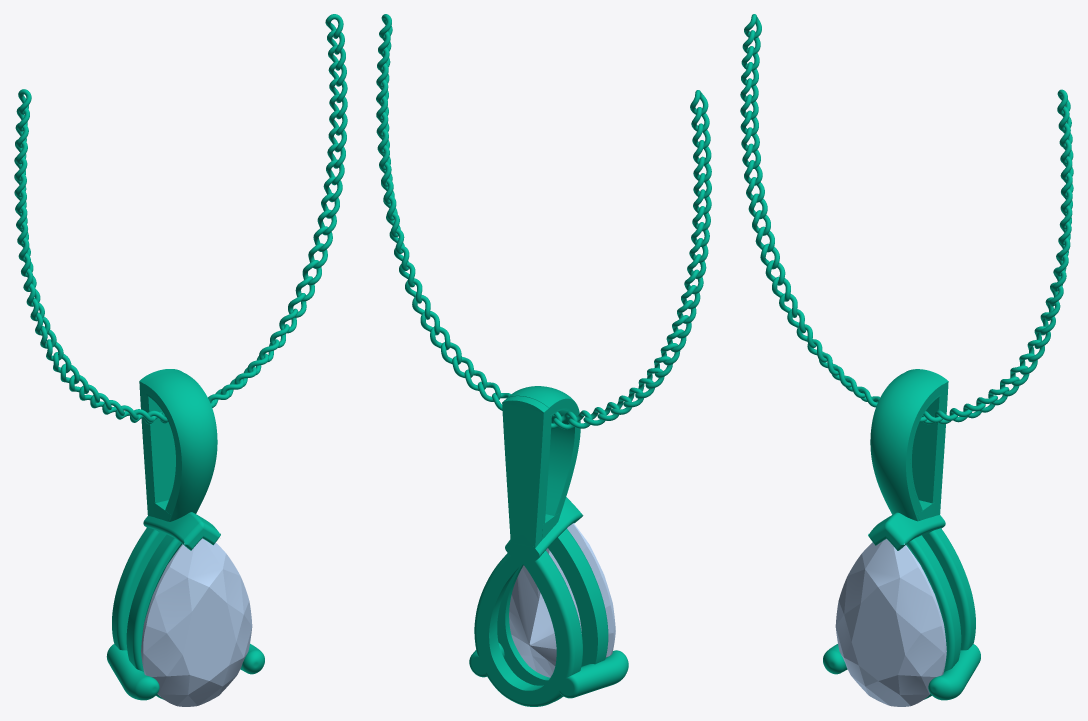
The picture shows the model from 3 angles, left to right: view 1: azimuth 30°, elevation 25°; view 2: azimuth 150°, elevation 25°; view 3: azimuth 330°, elevation 25°; orthographic projection.
Visible parts, largest first — view 1: Diamond_Pear, VBP118 4-2-25(RENDER).3dm, Bezel (×2), Head Prong (×2); view 2: Bezel (×2), VBP118 4-2-25(RENDER).3dm, Diamond_Pear, Head Prong (×2); view 3: Diamond_Pear, VBP118 4-2-25(RENDER).3dm, Bezel (×2), Head Prong (×2).
Part boxes in pixels (box(x1,y1,x2,y2)): Diamond_Pear: box(141, 538, 252, 706); VBP118 4-2-25(RENDER).3dm: box(139, 369, 217, 521); Bezel (×2): box(112, 527, 182, 699); Head Prong (×2): box(106, 512, 220, 700); Bezel (×2): box(474, 528, 608, 706); VBP118 4-2-25(RENDER).3dm: box(502, 386, 580, 548); Diamond_Pear: box(509, 523, 615, 677); Head Prong (×2): box(505, 497, 628, 698); Diamond_Pear: box(835, 539, 946, 706); VBP118 4-2-25(RENDER).3dm: box(870, 369, 948, 521); Bezel (×2): box(906, 528, 975, 699); Head Prong (×2): box(868, 512, 980, 700).
Size of the model in its own units: 1.89 by 3.49 by 0.4886.
